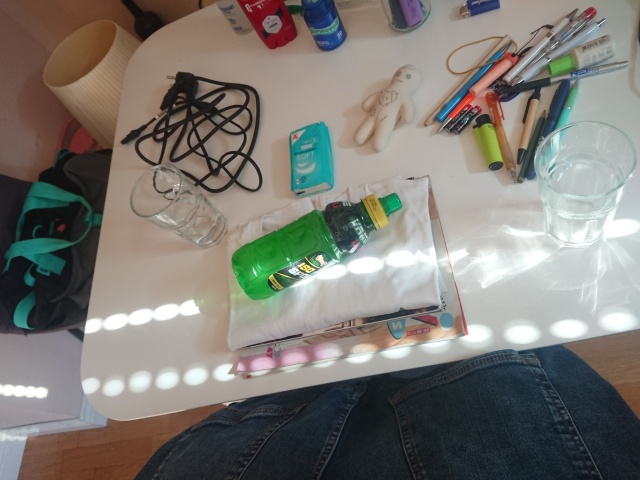Vindi Iso Sport Lemon-Grapefruit 500mL: (228, 191, 404, 303)
